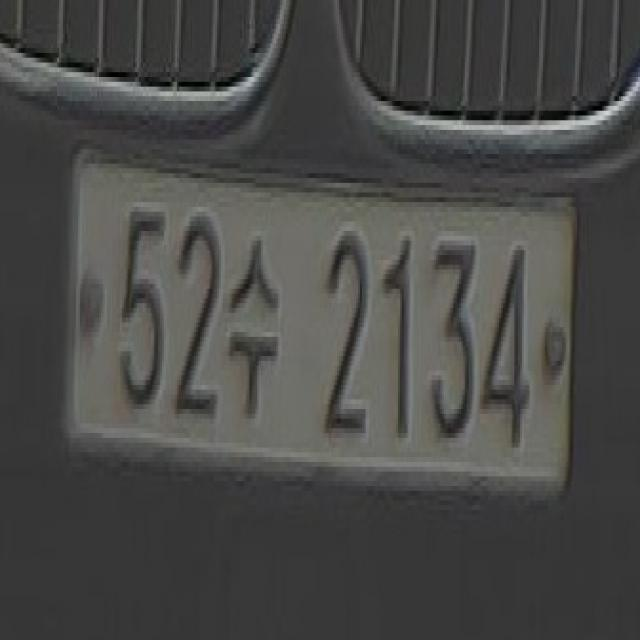1: (375, 229, 418, 449)
2: (320, 221, 372, 460), (172, 203, 222, 424)
3: (422, 228, 475, 461)
4: (482, 230, 534, 466)
5: (117, 187, 169, 427)
license_plate: (61, 132, 589, 514)
su: (224, 234, 281, 428)
